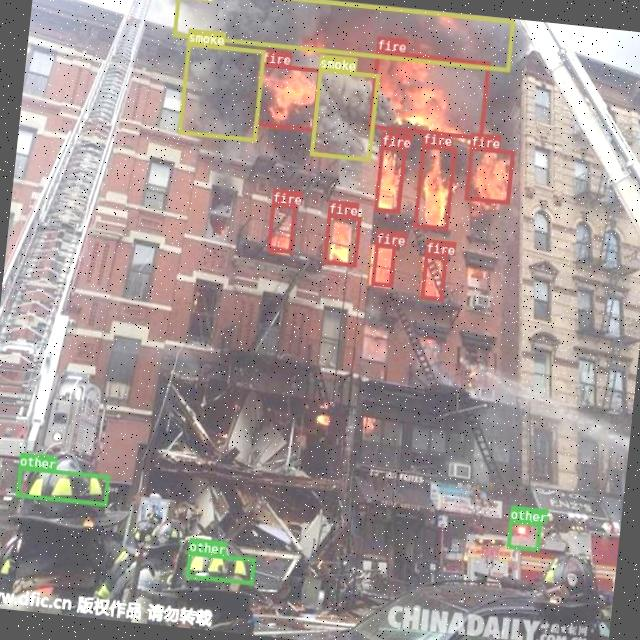fire: (366, 49, 489, 140), (253, 62, 320, 131), (412, 142, 456, 229), (464, 145, 514, 203), (372, 145, 406, 212), (321, 212, 360, 266), (266, 202, 296, 253), (419, 252, 446, 300), (370, 242, 395, 286)
smoke: (171, 0, 514, 71), (177, 41, 264, 141), (308, 67, 378, 161)
